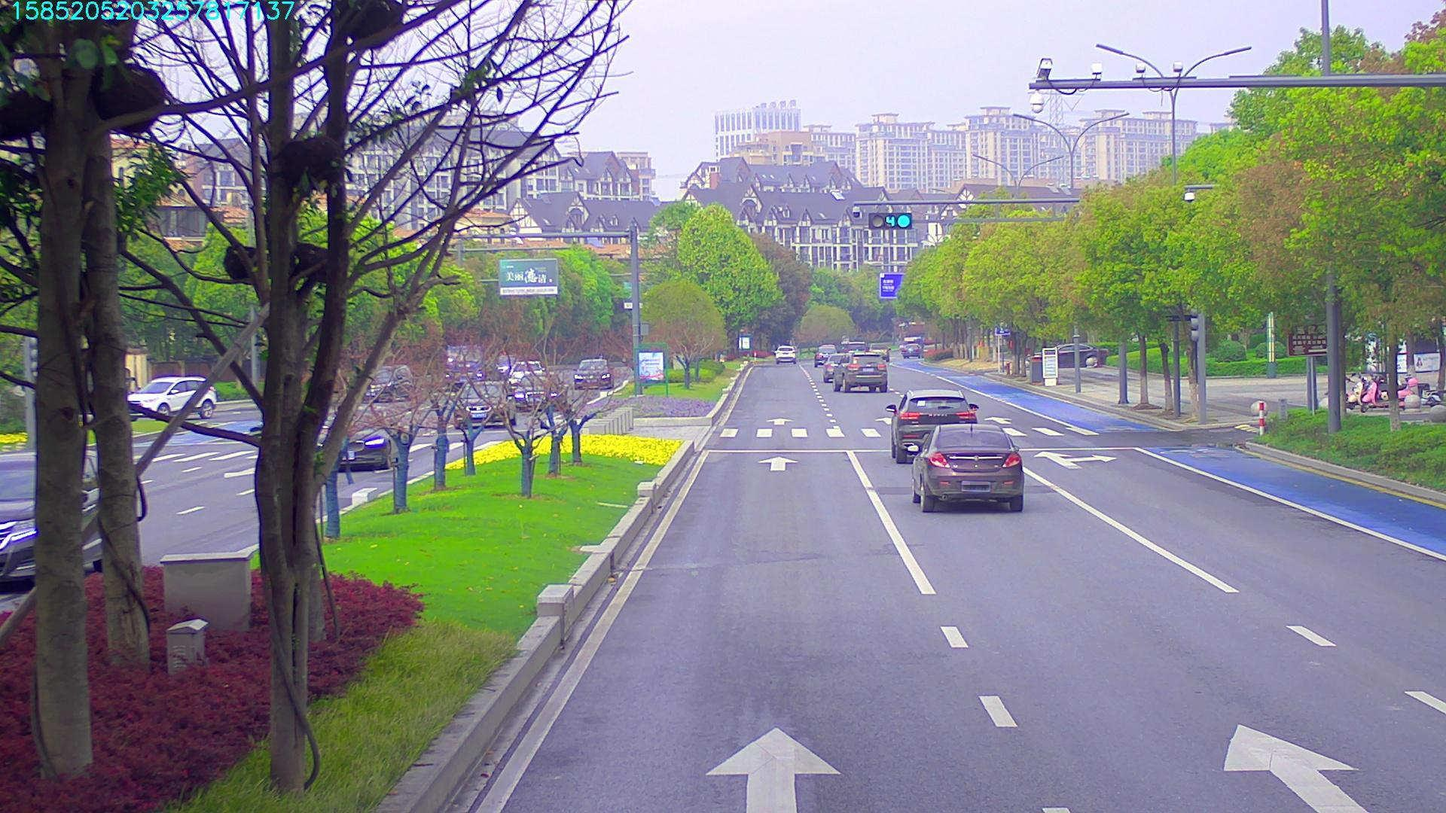green: (862, 212, 908, 230)
